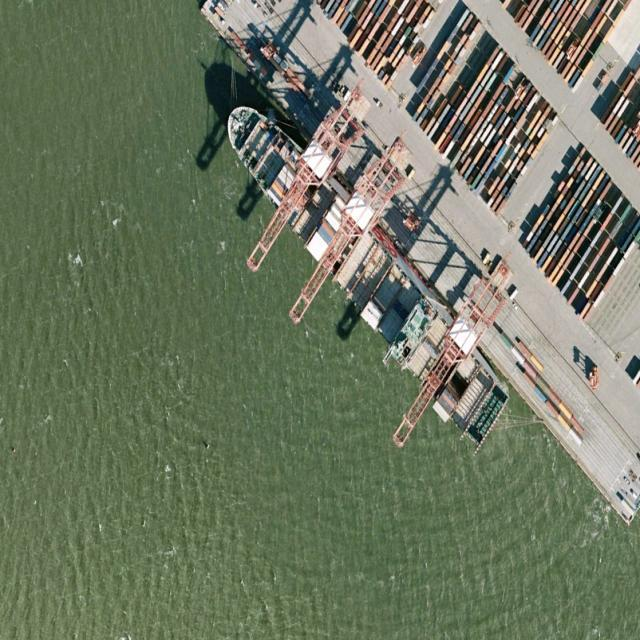Container Ship: (208, 77, 518, 456)
